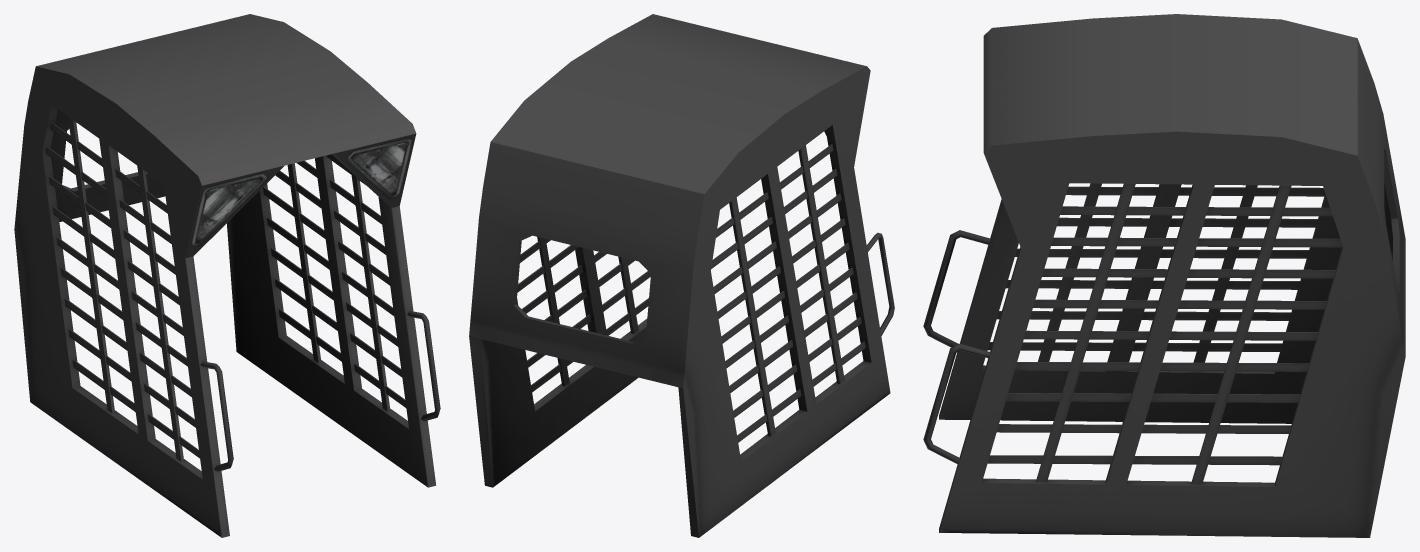
File: Construction_3_Roof 1.FBX
The picture shows the model from 3 angles, left to right: view 1: azimuth 30°, elevation 25°; view 2: azimuth 150°, elevation 25°; view 3: azimuth 270°, elevation 25°; orthographic projection. The views are drawn at different scales.
Visible parts, largest first — view 1: Construction_3_Roof; view 2: Construction_3_Roof; view 3: Construction_3_Roof.
Boxes of the visible parts, x1,y1,x2,y2 form: Construction_3_Roof: (14, 14, 440, 537); Construction_3_Roof: (469, 14, 894, 537); Construction_3_Roof: (923, 14, 1405, 537).
Bounding box in the file's own units: 75.09 × 121 × 130.
